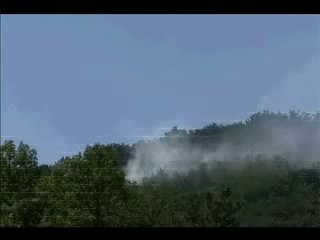smoke: (114, 110, 318, 183)
